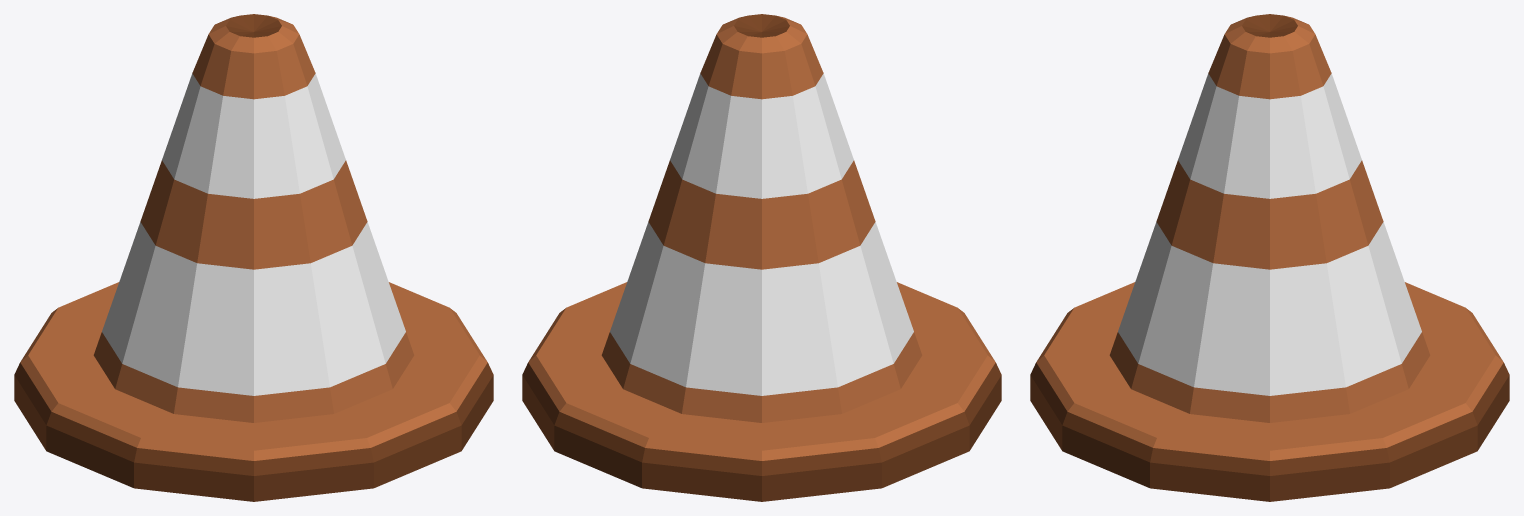
File: 3D_Danger-Cone.fbx
The picture shows the model from 3 angles, left to right: view 1: azimuth 30°, elevation 25°; view 2: azimuth 150°, elevation 25°; view 3: azimuth 270°, elevation 25°; orthographic projection.
Visible parts, largest first — view 1: 3D_Danger-Cone; view 2: 3D_Danger-Cone; view 3: 3D_Danger-Cone.
Part boxes in pixels (x1,y1,x2,y2): 3D_Danger-Cone: (14,14,493,501); 3D_Danger-Cone: (522,14,1001,501); 3D_Danger-Cone: (1030,14,1509,501).
Bounding box in the file's own units: 78.02 × 67.3 × 78.02.
